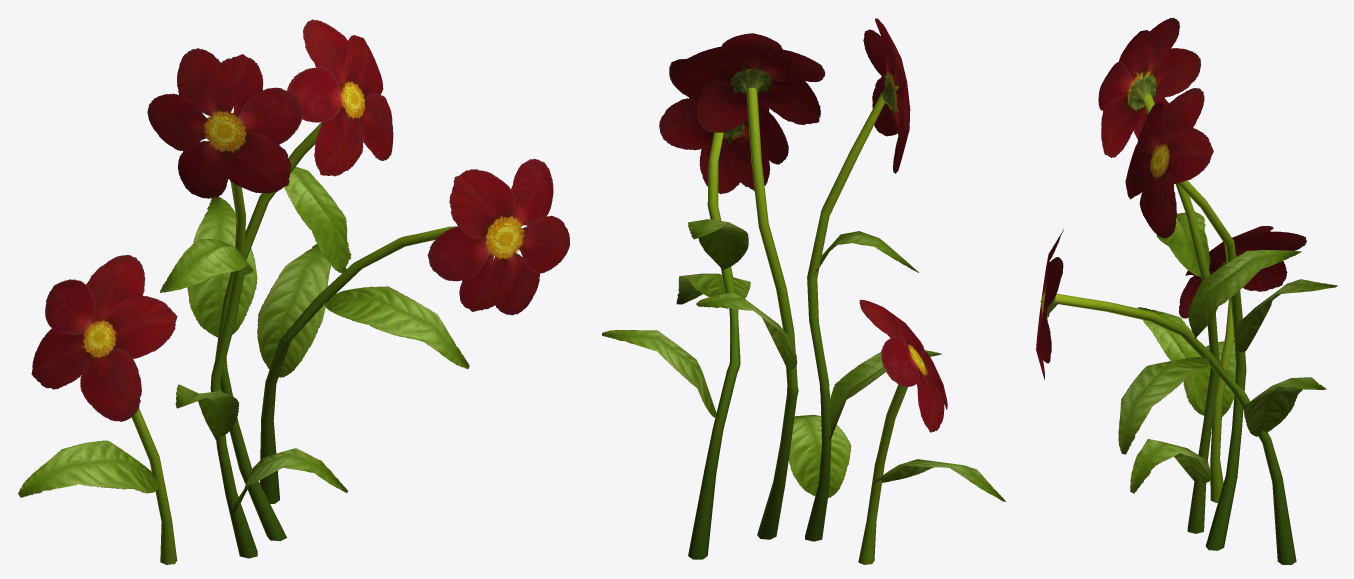
The model's file is flowers.obj.
The picture shows the model from 3 angles, left to right: view 1: azimuth 30°, elevation 25°; view 2: azimuth 150°, elevation 25°; view 3: azimuth 270°, elevation 25°; orthographic projection. The views are drawn at different scales.
Parts seen in each view (by area): view 1: flowers; view 2: flowers; view 3: flowers.
Boxes of the visible parts, x1=… form: flowers: x1=18, y1=19, x2=569, y2=564; flowers: x1=602, y1=18, x2=1005, y2=564; flowers: x1=1036, y1=17, x2=1337, y2=564.
Bounding box in the file's own units: 83.44 × 93.13 × 52.3.
1 material, 1 textured.
